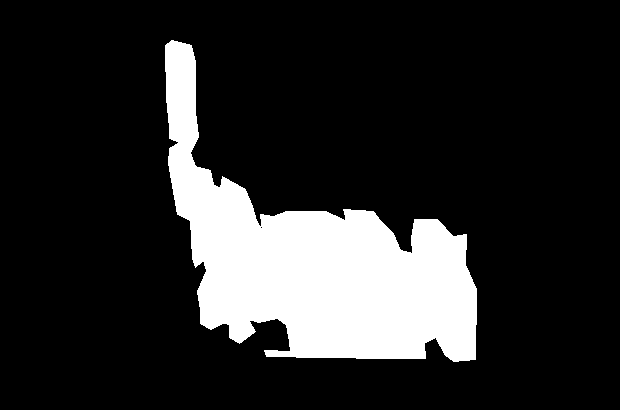type2: (159, 37, 477, 363)
